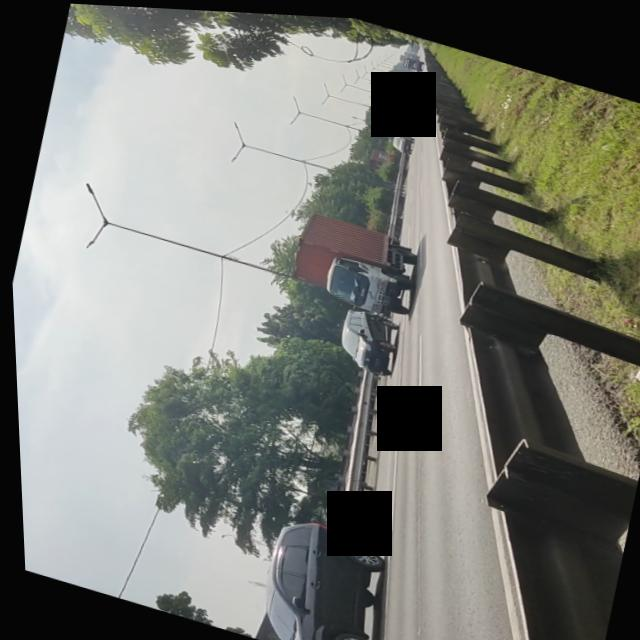Golongan I: (233, 500, 406, 640), (324, 299, 407, 380)
Golongan II: (284, 204, 431, 323)
